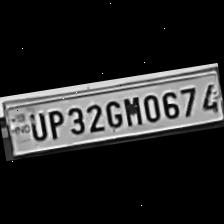0: (138, 90, 162, 124)
2: (82, 100, 105, 134)
3: (63, 102, 87, 138)
4: (194, 80, 220, 116)
6: (156, 87, 181, 121)
7: (176, 84, 198, 118)
G: (101, 97, 124, 131)
M: (119, 92, 143, 128)
P: (43, 106, 67, 142)
U: (25, 110, 48, 142)
